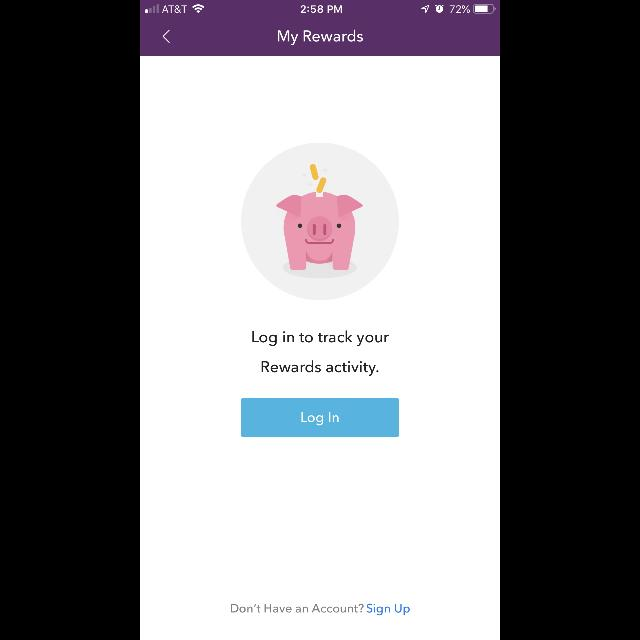icon: (162, 31, 170, 44)
image: (242, 142, 398, 300)
text: (253, 330, 389, 376), (230, 603, 410, 615), (278, 30, 362, 46)
textbutton: (242, 398, 398, 438)
uppertaskbar: (140, 0, 500, 14)
